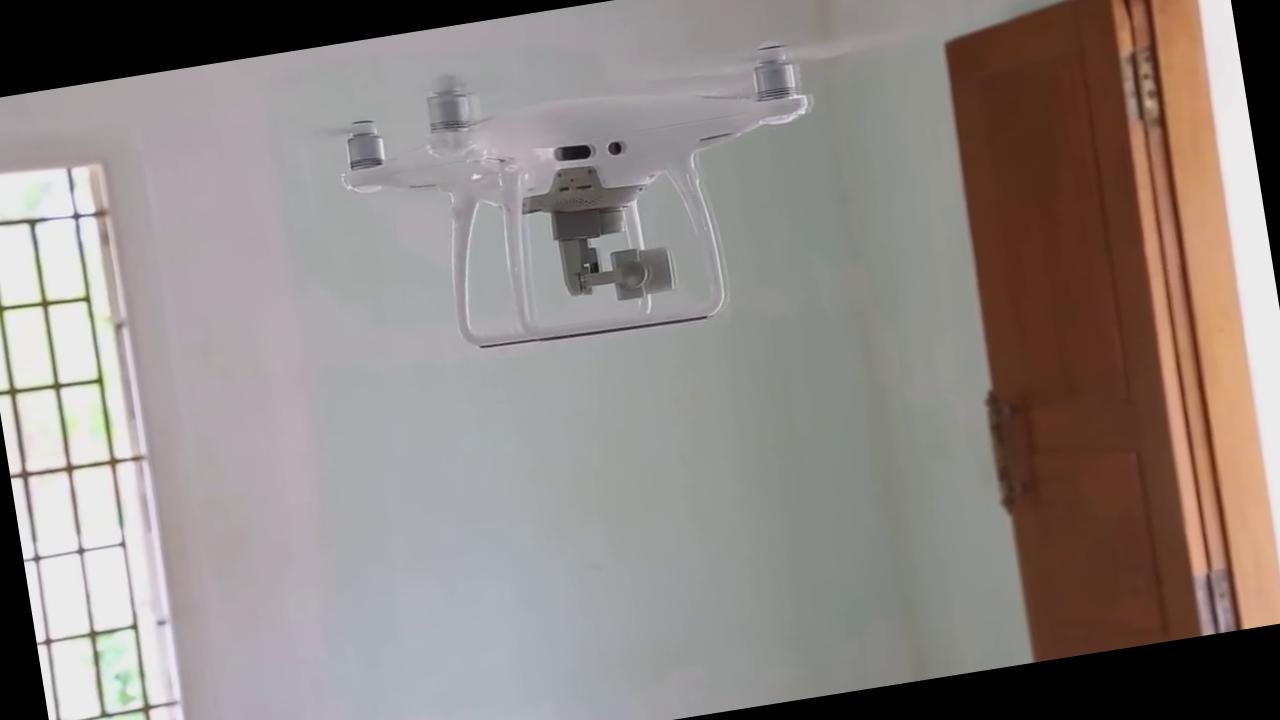drone: (275, 0, 935, 322)
